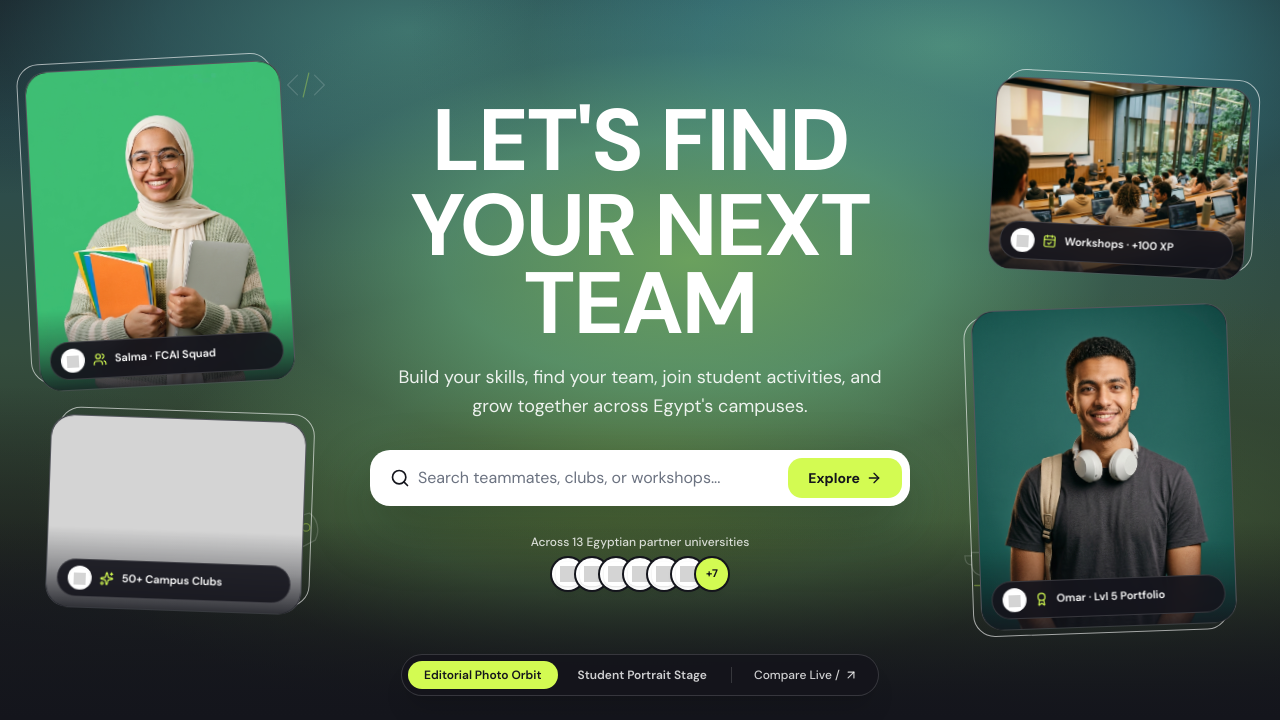
Test case: App shell and home route › renders Handshake Rosetta-locked ProposedHeroDemo (/demo/hero) and switches between Editorial Photo Orbit and Student Portrait Stage
The width and height of the screenshot is (1280, 720).
(page scrolled)
Expected: the heading shows "LET'S FIND", [432,84,848,197]
Expected: the heading shows "YOUR NEXT TEAM", [410,169,870,360]
Click the tab "Student Portrait Stage".
click(642, 675)  # box [562,661,723,689]
(page scrolled)
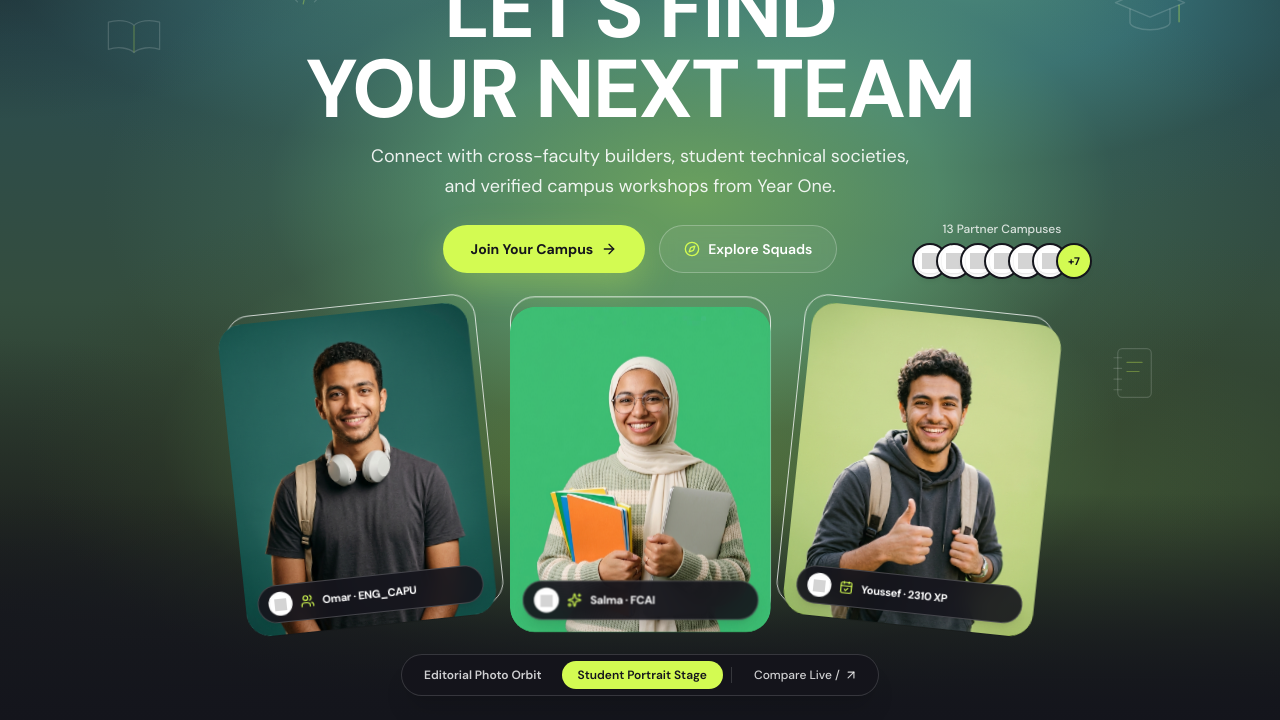
Now the link "Join Your Campus" is shown, box [443,225,645,273]
Now the link "Explore Squads" is shown, box [659,225,837,273]
Now the text "Omar · ENG_CAPU" is shown, box [322,582,417,608]
